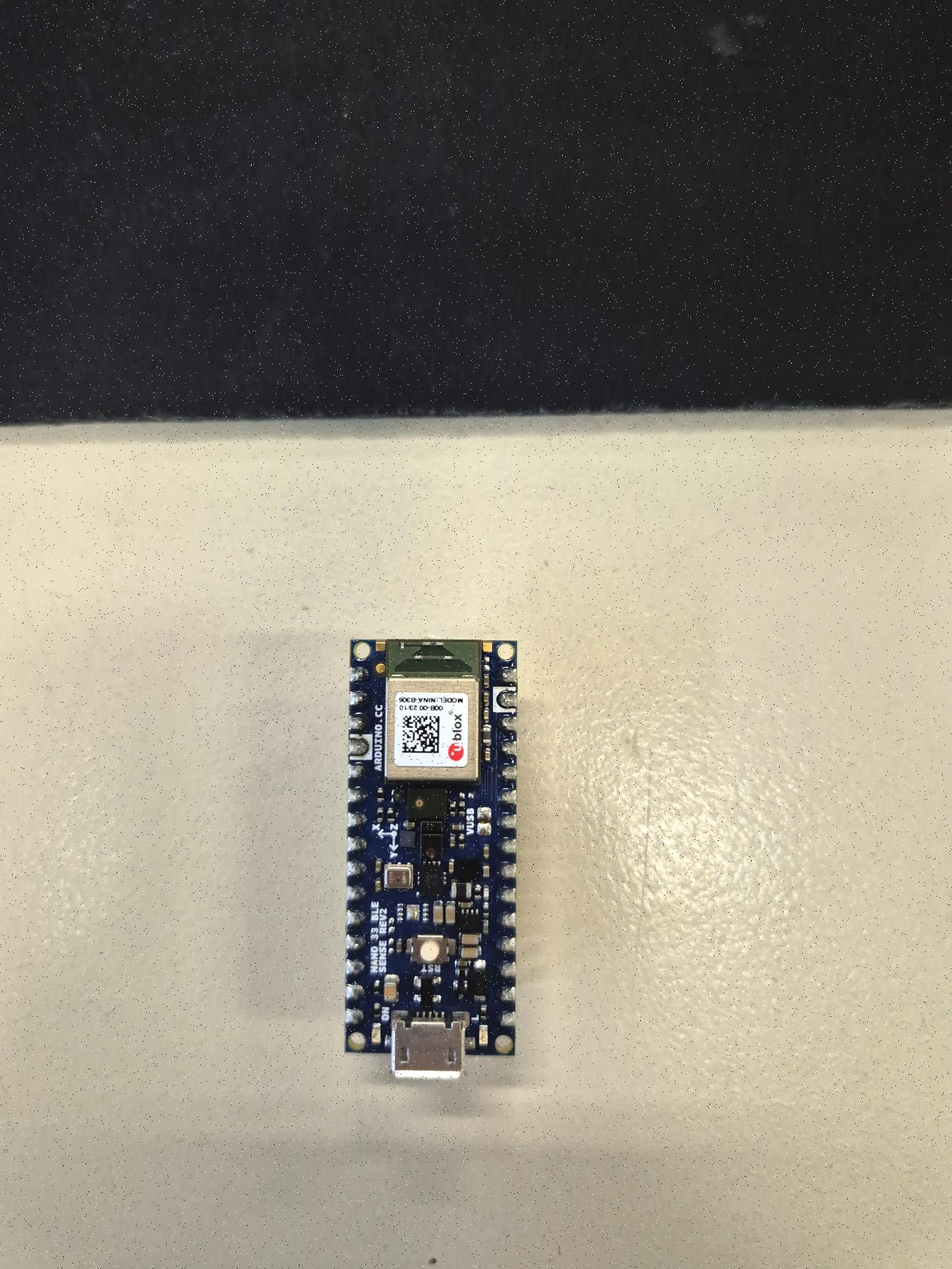arduino-nano-ble-sense: (346, 639, 518, 1079)
